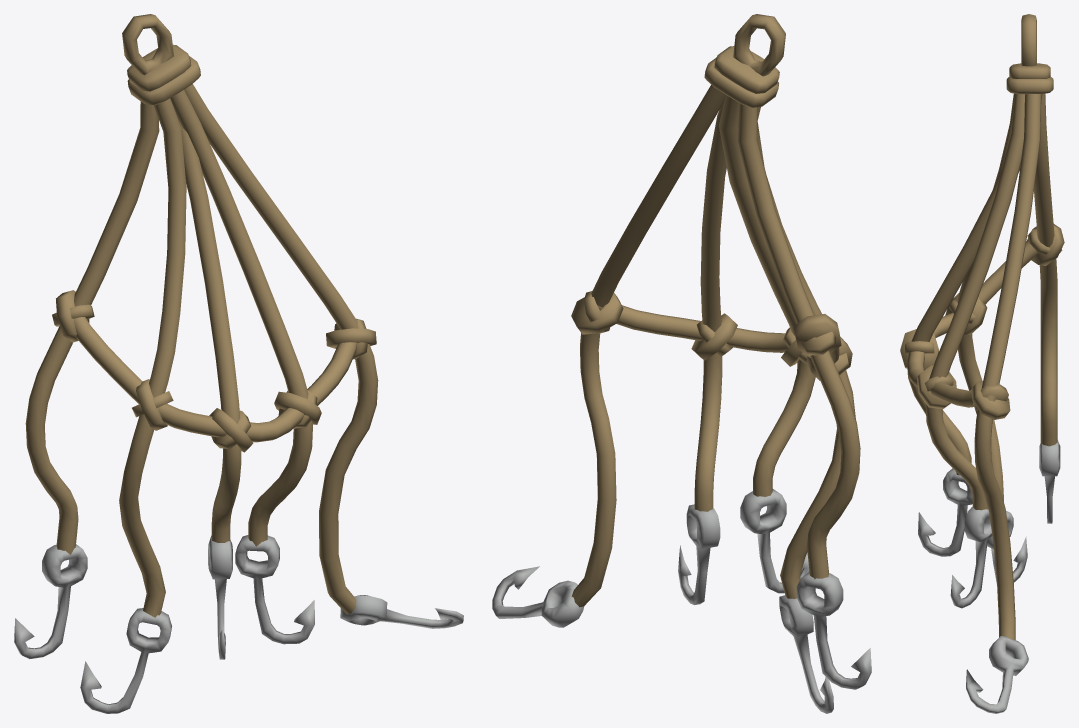
Rendered from Red.fbx.
3 views of the same model, side by side, from view 1: azimuth 30°, elevation 25°; view 2: azimuth 150°, elevation 25°; view 3: azimuth 270°, elevation 25° (orthographic). The views are drawn at different scales.
Visible parts, largest first — view 1: BézierCurve.005, Cube.008, Cube.004, Cube.010; view 2: BézierCurve.005, Cube.008, Cube.004, Cube.010; view 3: BézierCurve.005, Cube.008, Cube.004, Cube.010.
Boxes of the visible parts, x1,y1,x2,y2 form: BézierCurve.005: (25,84,378,617); Cube.008: (14,535,463,713); Cube.004: (52,290,376,452); Cube.010: (122,14,200,105); BézierCurve.005: (571,84,860,607); Cube.008: (492,489,871,713); Cube.004: (571,291,852,380); Cube.010: (704,14,785,107); BézierCurve.005: (907,93,1057,640); Cube.008: (918,440,1060,713); Cube.004: (900,224,1064,419); Cube.010: (1006,14,1053,94).
Bounding box in the file's own units: 86.82 × 138 × 35.02.
